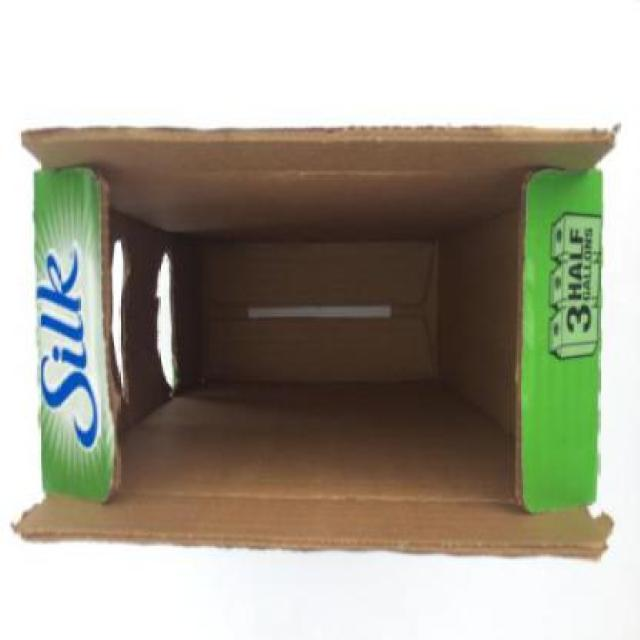box: (9, 93, 623, 589)
